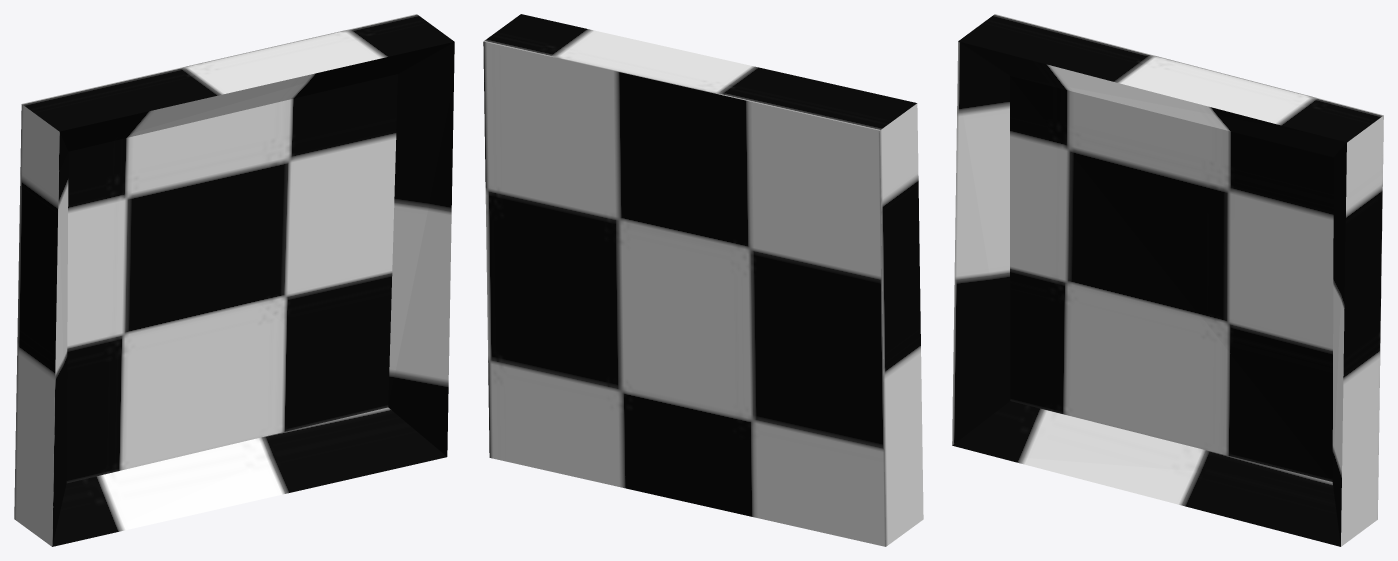
File: board.obj
3 renders of one model, left to right at view 1: azimuth 30°, elevation 25°; view 2: azimuth 150°, elevation 25°; view 3: azimuth 330°, elevation 25°, orthographic.
Parts seen in each view (by area): view 1: board_Board_Cube.001; view 2: board_Board_Cube.001; view 3: board_Board_Cube.001.
Boxes of the visible parts, box(x1,y1,x2,y2) form: board_Board_Cube.001: box(14, 14, 454, 546); board_Board_Cube.001: box(483, 14, 923, 546); board_Board_Cube.001: box(952, 14, 1383, 546).
Bounding box in the file's own units: 2.03 × 2.03 × 0.3404.
